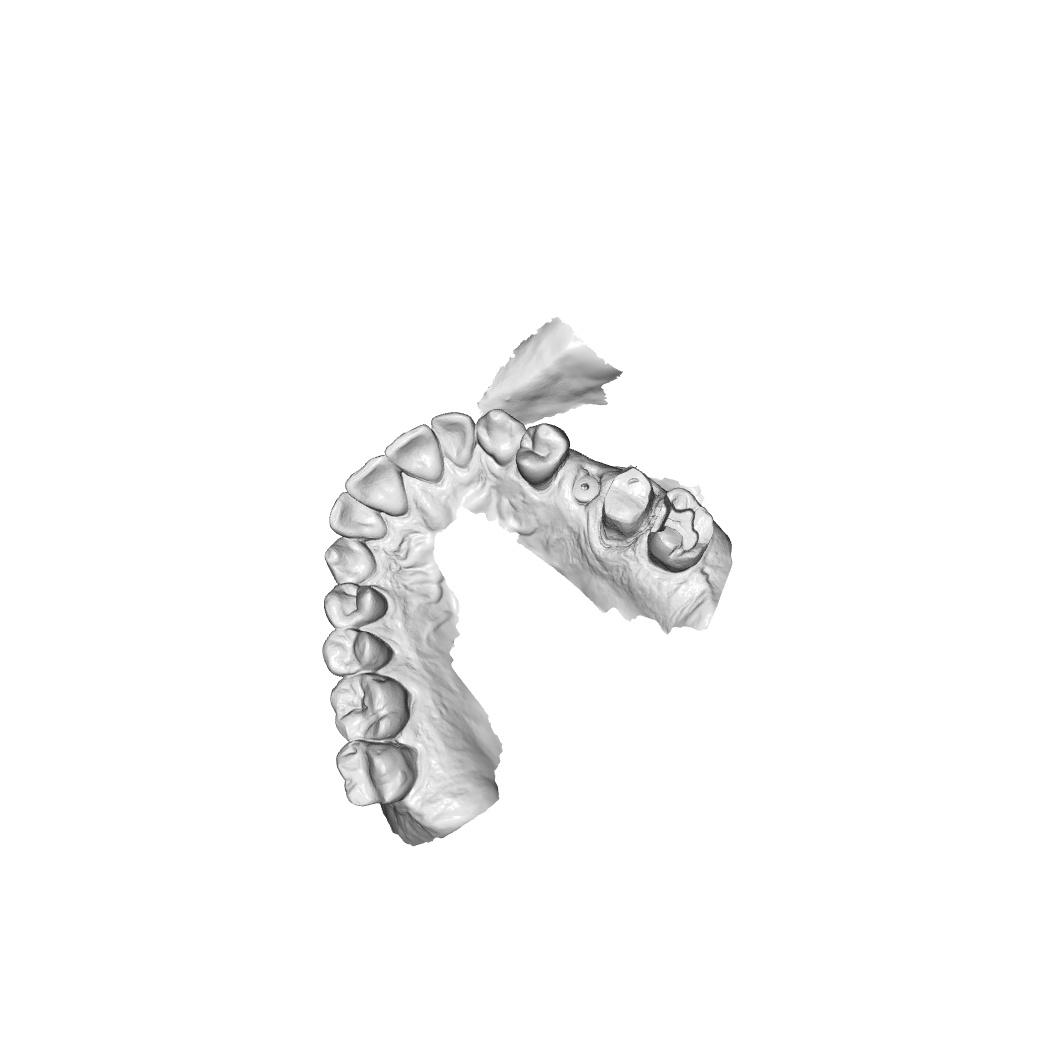canine: (475, 408, 527, 468), (323, 537, 378, 586)
crown: (599, 467, 658, 549)
implant: (571, 473, 601, 507)
incisor: (344, 454, 409, 517), (384, 423, 444, 483), (328, 491, 388, 542), (430, 411, 476, 468)
inlay: (648, 491, 700, 555)
molar: (328, 672, 411, 742), (334, 739, 417, 808)
premolar: (515, 422, 571, 491), (321, 627, 394, 678), (323, 582, 389, 630)
